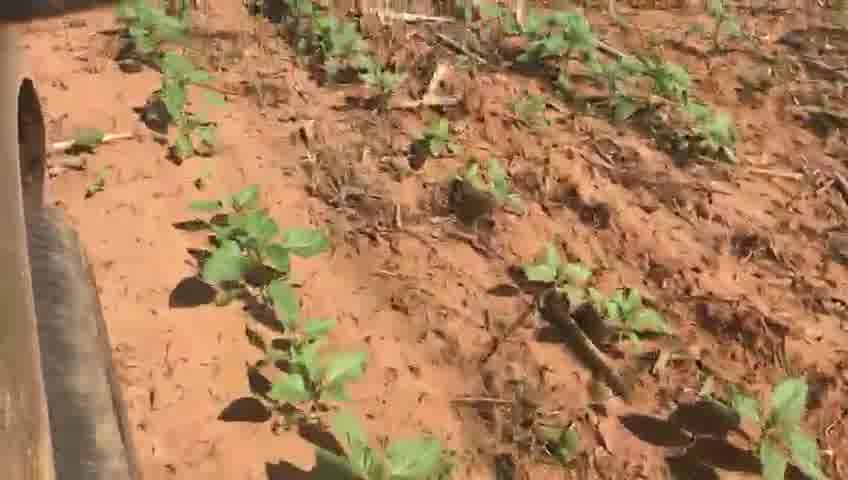sunflower: (178, 186, 335, 323), (690, 375, 835, 478), (227, 327, 370, 422), (265, 425, 458, 478), (521, 5, 615, 84), (110, 5, 203, 74), (137, 56, 216, 136), (587, 283, 672, 356), (520, 240, 596, 313), (610, 56, 690, 123), (459, 154, 532, 221), (146, 105, 228, 161), (681, 102, 743, 165), (306, 12, 368, 73), (407, 113, 458, 165), (354, 62, 410, 100)
